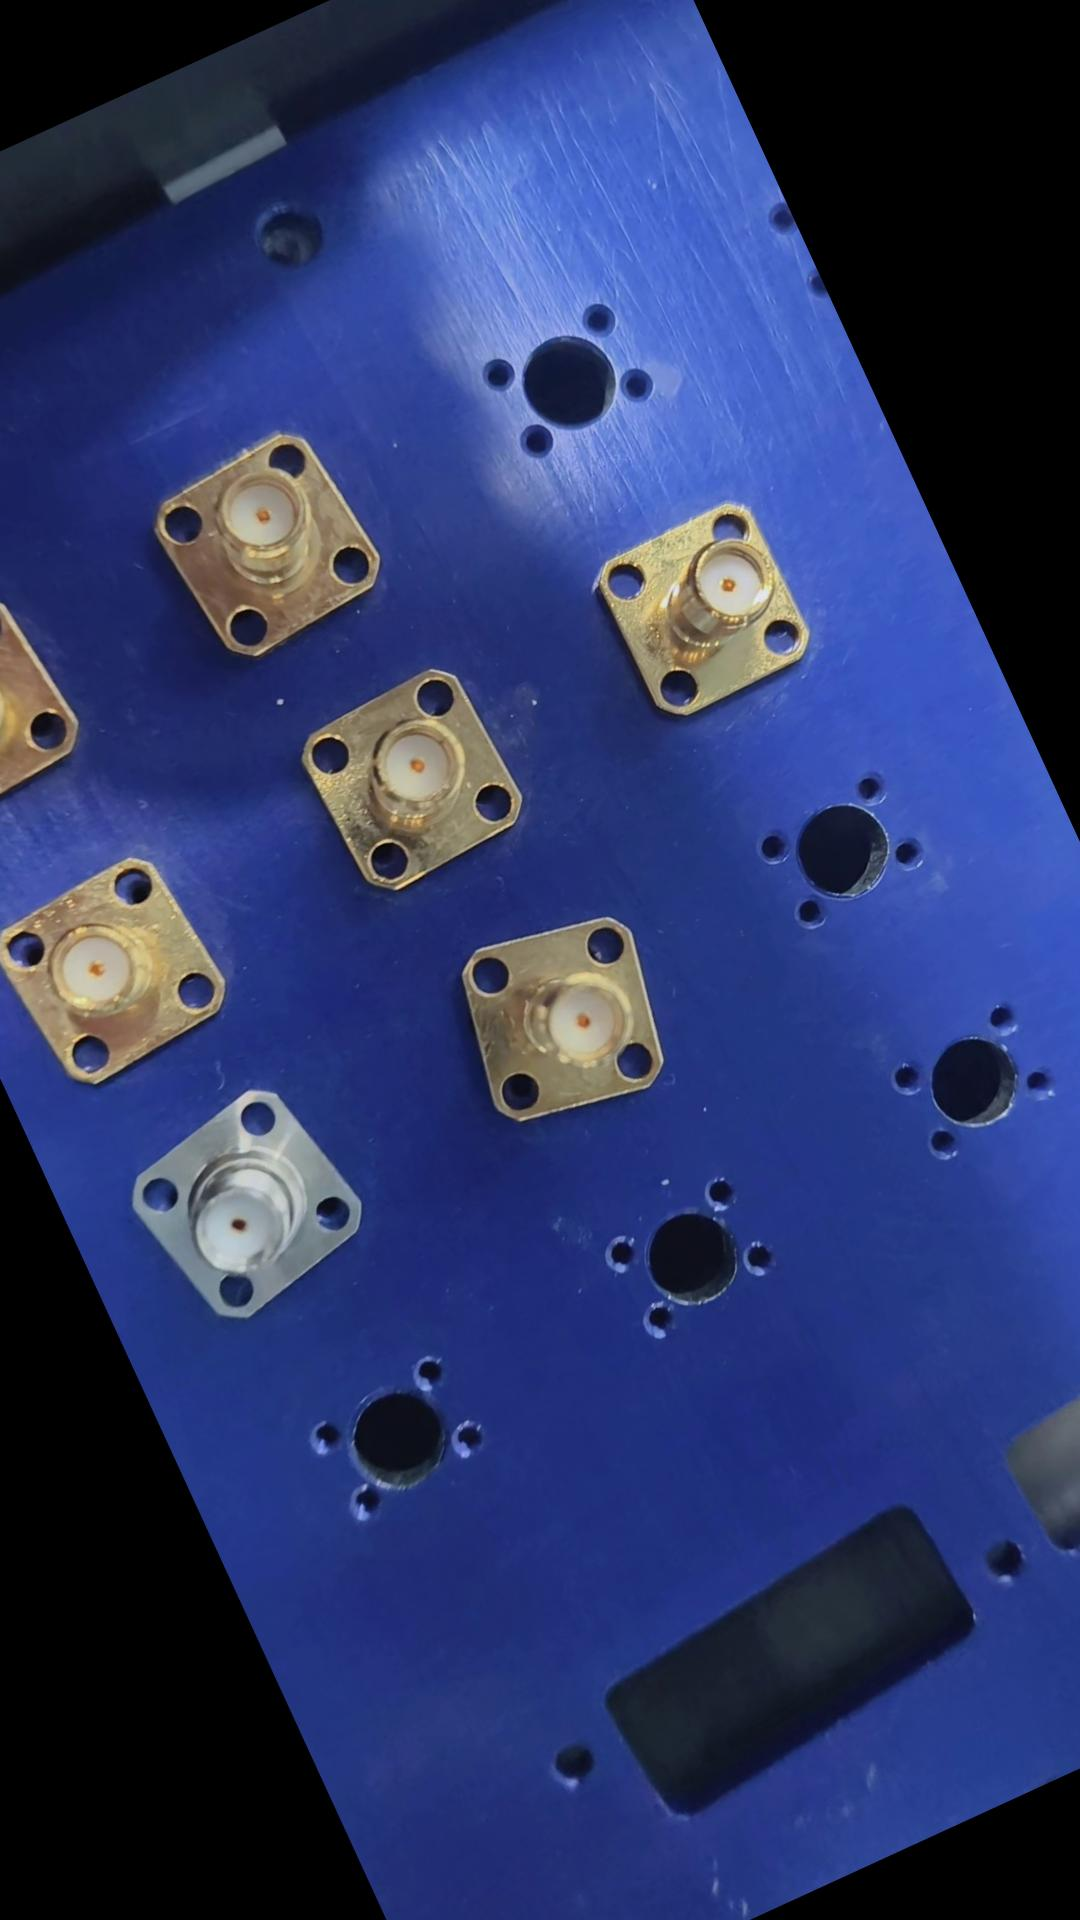SMA: (109, 1052, 407, 1348), (284, 646, 558, 918), (431, 880, 705, 1151), (135, 407, 410, 673), (582, 481, 836, 735)
